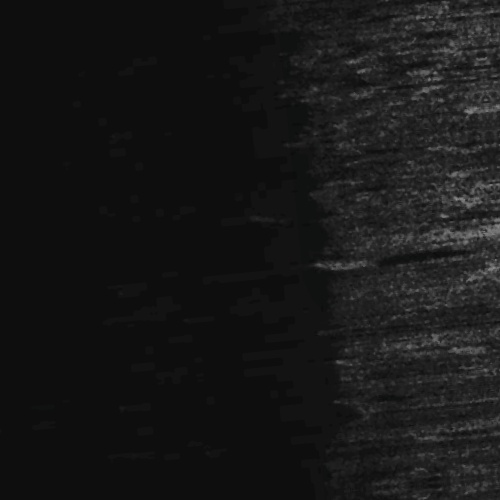object: (459, 127, 500, 132)
shadow: (480, 127, 500, 132)
